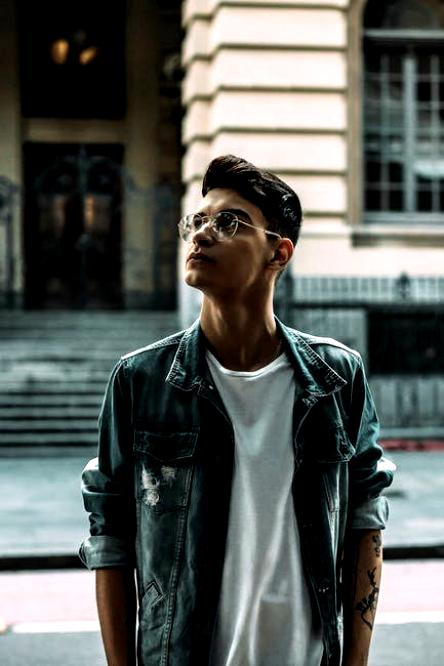face: (185, 191, 264, 289)
